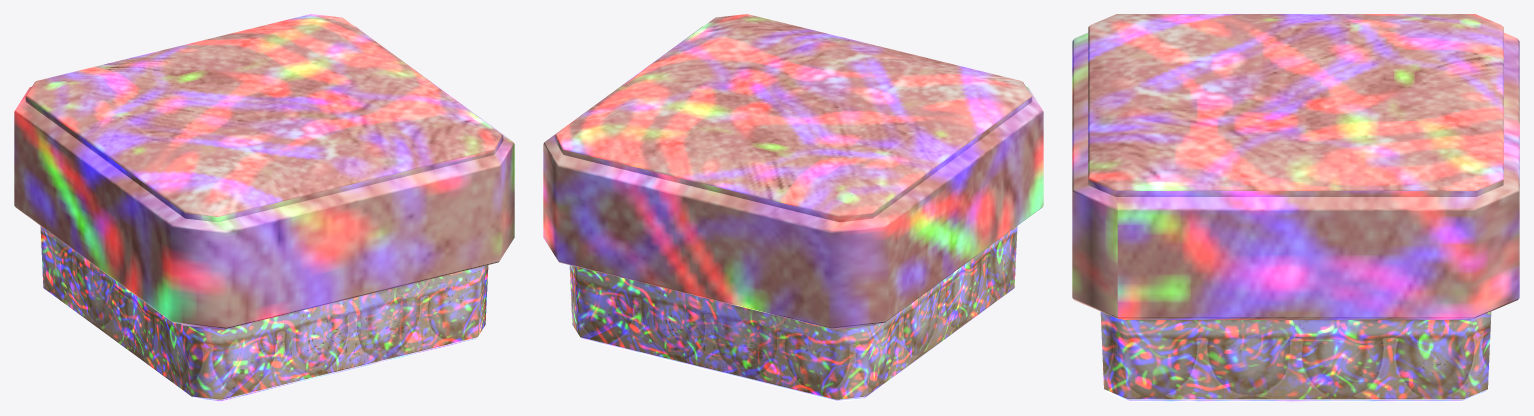
Rendered from trim_crown_end.fbx.
3 views of the same model, side by side, from view 1: azimuth 30°, elevation 25°; view 2: azimuth 150°, elevation 25°; view 3: azimuth 270°, elevation 25° (orthographic). The views are drawn at different scales.
Visible parts, largest first — view 1: trim_crown_end_LOD0; view 2: trim_crown_end_LOD0; view 3: trim_crown_end_LOD0.
Part boxes in pixels (x1,y1,x2,y2): trim_crown_end_LOD0: (14, 14, 514, 401); trim_crown_end_LOD0: (543, 14, 1043, 401); trim_crown_end_LOD0: (1072, 14, 1519, 401).
Size of the model in its own units: 128 by 128 by 75.04.
3 materials, 2 textured.
